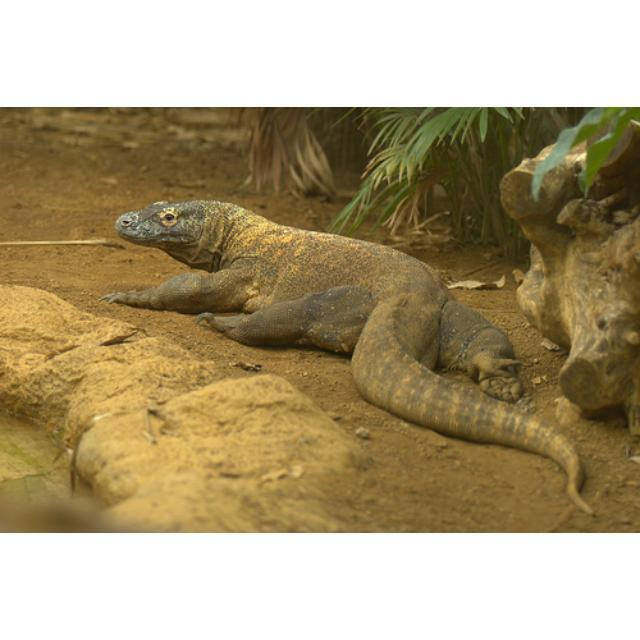KomodoDragon: (99, 195, 594, 515)
